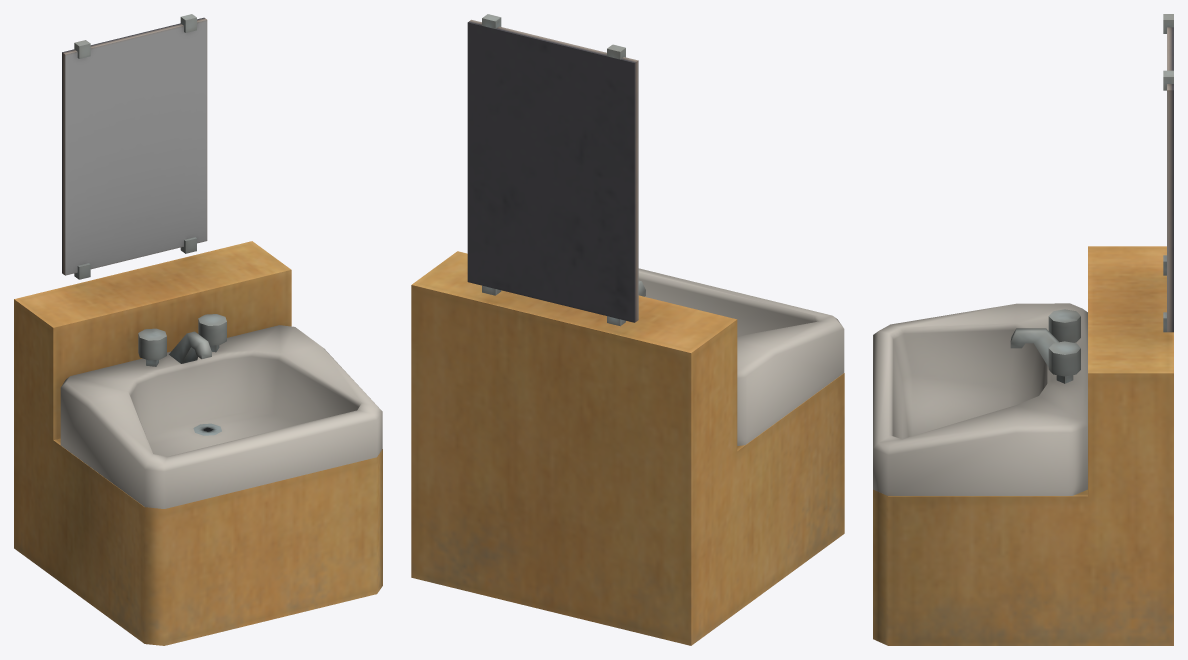
The model's file is sb_obj_ModernCity076_wash_basin_b.fbx.
3 renders of one model, left to right at view 1: azimuth 30°, elevation 25°; view 2: azimuth 150°, elevation 25°; view 3: azimuth 270°, elevation 25°, orthographic. The views are drawn at different scales.
Parts seen in each view (by area): view 1: sb_obj_ModernCity076_wash_basin_b; view 2: sb_obj_ModernCity076_wash_basin_b; view 3: sb_obj_ModernCity076_wash_basin_b.
Boxes of the visible parts, left/top/right/bottom form: sb_obj_ModernCity076_wash_basin_b: left=14, top=14, right=382, bottom=645; sb_obj_ModernCity076_wash_basin_b: left=411, top=14, right=844, bottom=645; sb_obj_ModernCity076_wash_basin_b: left=873, top=14, right=1173, bottom=645.
Bounding box in the file's own units: 0.64 × 1.26 × 0.64.
Materials: 1 (1 with a texture image).
